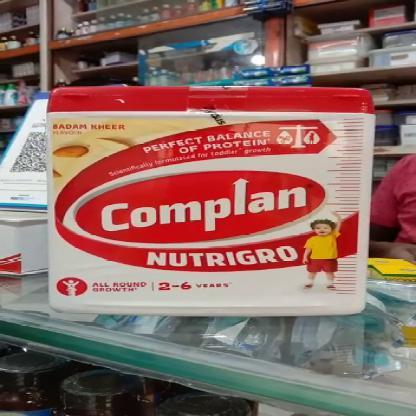Complan Nutrigro Badam Kheer: (43, 90, 374, 316)
